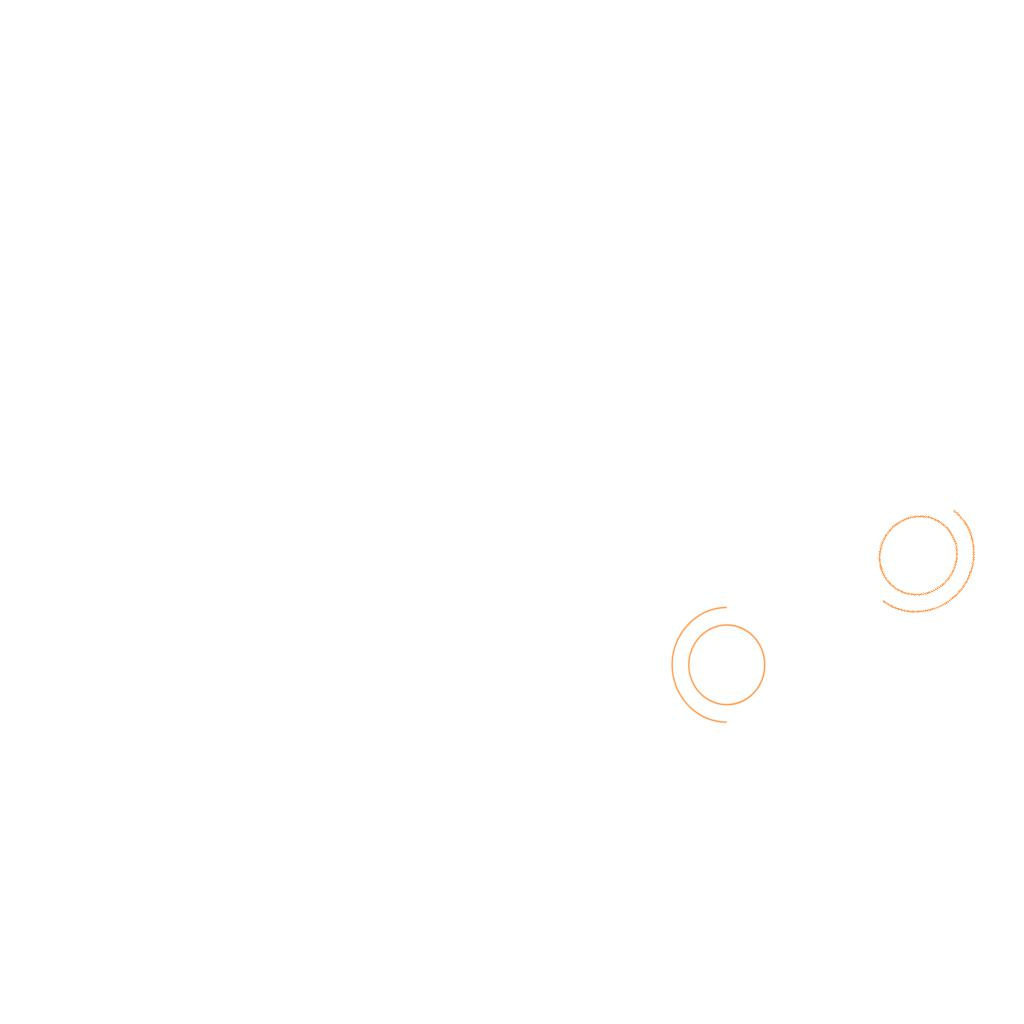Scheinwerfer_fuer_Alarmbeleuchtung: (839, 469, 1009, 643), (666, 602, 778, 734)
